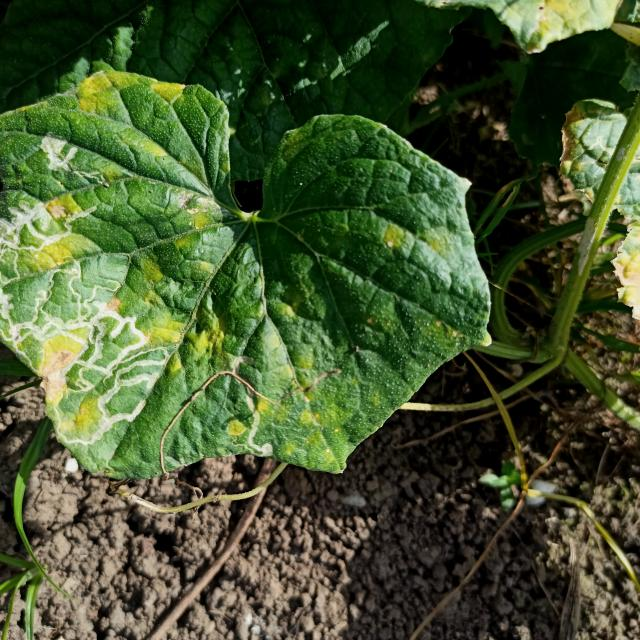disease_cucumber: (0, 172, 234, 452), (218, 330, 355, 464), (73, 69, 190, 157), (373, 216, 459, 263)
